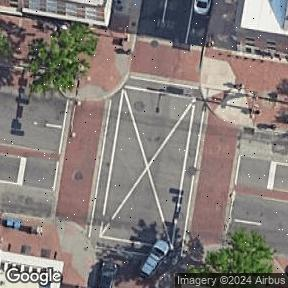vegetation: (26, 18, 99, 98), (189, 228, 274, 273), (0, 30, 9, 58)
